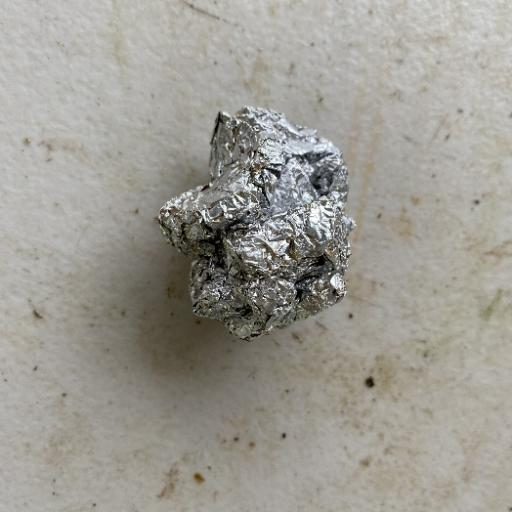Metal: (154, 103, 357, 343)
